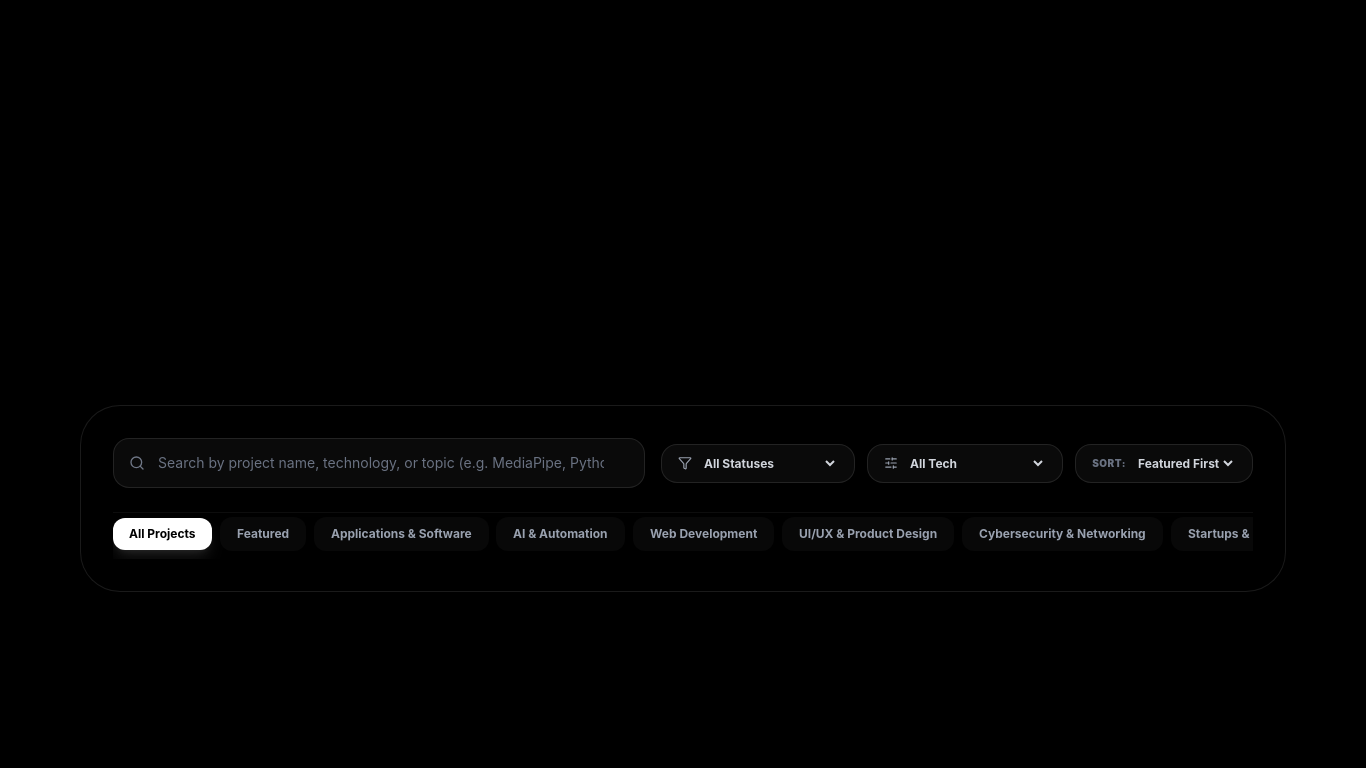
Test: 2. Project Explorer & 47 Projects Data Integrity › filters projects by category
# Click Cybersecurity & Networking category button
What coordinates should you click on to do the following:
click the button "Cybersecurity & Networking"
I would click on:
 (1063, 534)
Its box is [962,517,1163,551].
(page scrolled)
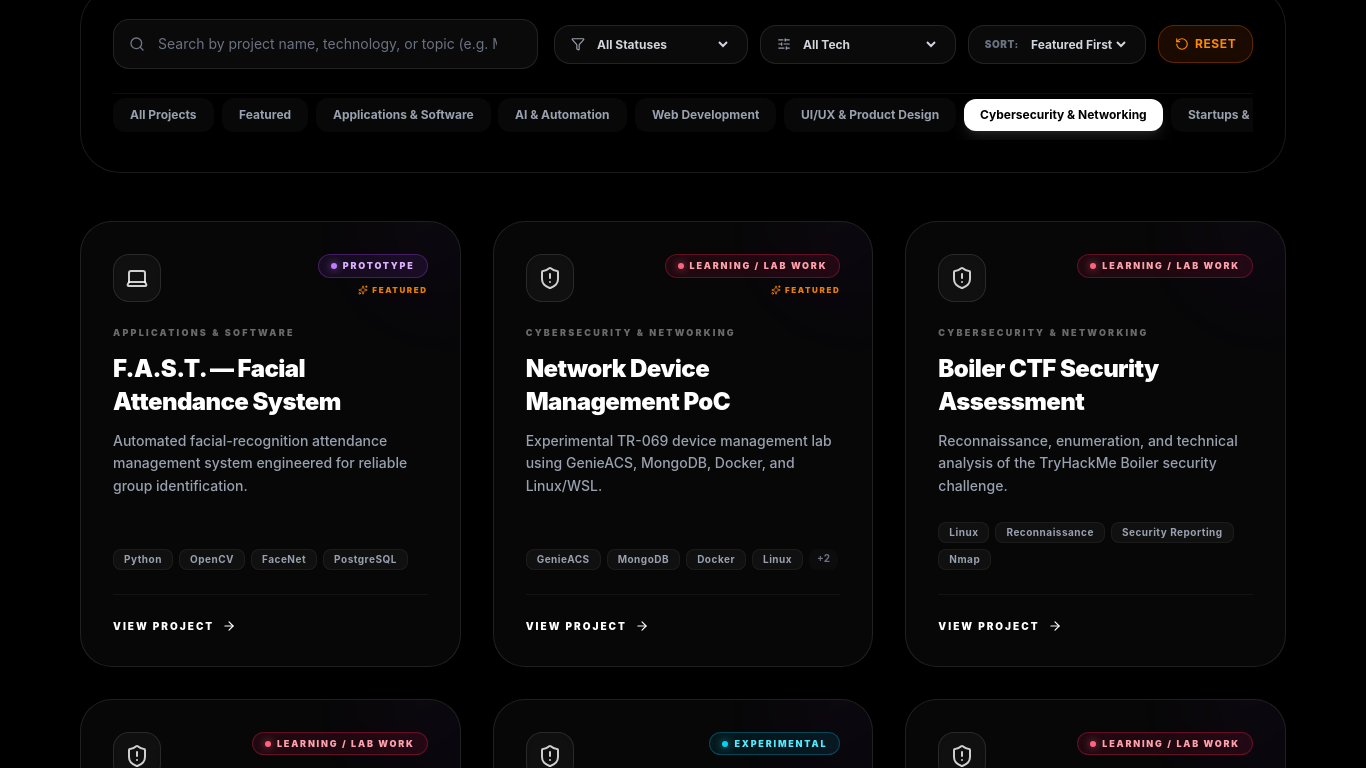
Expected: the heading "Network Device Management PoC" is shown, [526,354,730,416]
